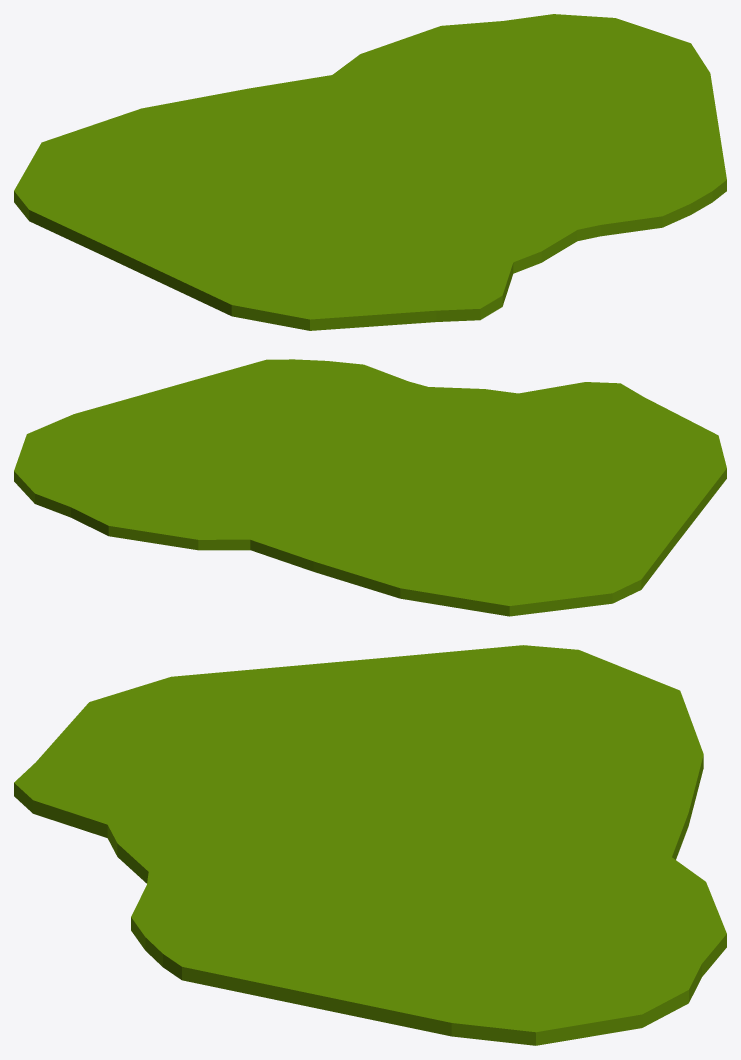
The model's file is Sand 23.FBX.
3 renders of one model, top to bottom at view 1: azimuth 30°, elevation 25°; view 2: azimuth 150°, elevation 25°; view 3: azimuth 270°, elevation 25°, orthographic. The views are drawn at different scales.
Parts seen in each view (by area): view 1: Plane001; view 2: Plane001; view 3: Plane001.
Boxes of the visible parts, bbox=[...] form: Plane001: bbox=[14, 14, 726, 330]; Plane001: bbox=[14, 359, 726, 616]; Plane001: bbox=[14, 645, 726, 1045].
Bounding box in the file's own units: 133 × 2.18 × 104.
